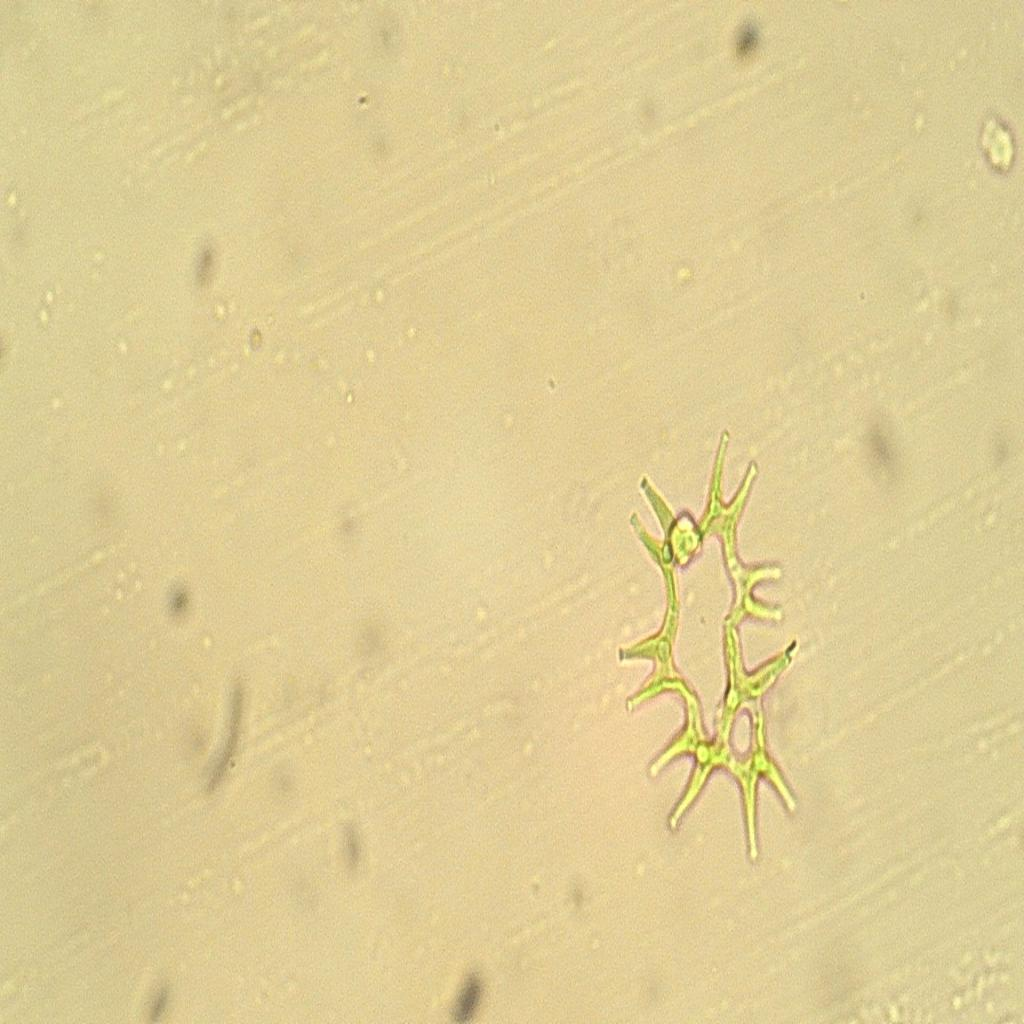Pediastrum_CFI: (612, 406, 822, 884)
